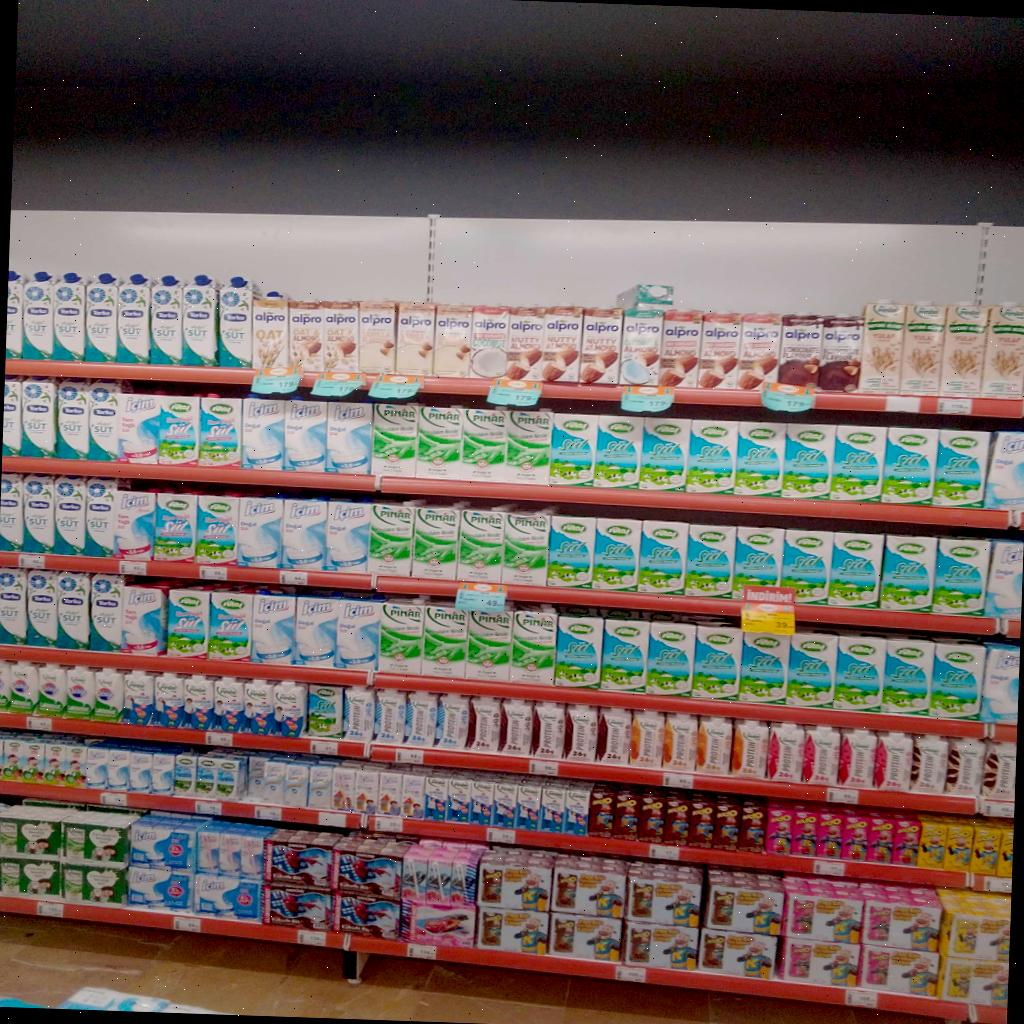price_tag: (741, 586, 795, 636), (487, 377, 542, 407), (761, 382, 815, 412), (456, 583, 507, 612), (621, 386, 675, 412), (252, 366, 302, 394), (313, 372, 364, 397), (369, 375, 422, 399), (937, 398, 973, 415), (885, 396, 921, 413), (846, 989, 878, 1008), (827, 788, 859, 805), (980, 801, 1014, 817), (394, 747, 424, 764), (814, 860, 845, 876), (615, 966, 646, 982), (374, 816, 403, 833), (486, 828, 516, 844), (663, 772, 693, 788), (529, 760, 559, 776), (297, 930, 326, 946), (318, 812, 347, 828), (984, 876, 1011, 893), (650, 845, 680, 860), (254, 806, 282, 822), (173, 917, 201, 933), (407, 944, 436, 959), (17, 554, 45, 569), (310, 740, 338, 755), (280, 570, 307, 585), (206, 732, 233, 747), (38, 901, 63, 917), (119, 561, 147, 575), (199, 566, 227, 580), (101, 792, 127, 807), (27, 717, 53, 731), (195, 801, 221, 814)
product: (701, 868, 784, 937), (860, 886, 941, 954), (331, 833, 413, 899), (624, 861, 702, 928), (402, 842, 480, 908), (939, 891, 1010, 963), (549, 853, 626, 919), (478, 849, 553, 913), (264, 828, 341, 890), (938, 304, 987, 397), (196, 820, 274, 878), (932, 430, 990, 507), (881, 428, 938, 505), (932, 538, 989, 615), (928, 642, 984, 720), (784, 890, 863, 945), (880, 535, 936, 612), (829, 425, 885, 501), (859, 301, 905, 393), (827, 532, 883, 607), (62, 811, 137, 867), (899, 303, 945, 394), (980, 304, 1024, 398), (832, 635, 885, 712), (859, 944, 938, 995), (882, 638, 933, 716), (781, 424, 834, 499), (698, 929, 777, 979), (129, 814, 197, 872), (686, 419, 738, 494), (780, 529, 832, 604), (623, 918, 698, 970), (781, 937, 859, 987), (637, 519, 688, 595), (786, 632, 837, 707), (0, 806, 75, 857), (738, 631, 791, 703), (455, 507, 505, 583), (646, 620, 696, 696), (638, 415, 688, 490), (735, 422, 785, 497), (691, 626, 742, 699), (937, 956, 1008, 1008), (685, 523, 734, 598), (731, 526, 782, 598), (553, 615, 604, 687), (398, 900, 476, 947), (504, 408, 552, 484), (594, 413, 642, 488), (600, 617, 648, 692), (546, 514, 595, 587), (548, 913, 621, 962), (459, 407, 507, 481), (548, 414, 598, 485), (736, 313, 782, 390), (420, 602, 467, 677), (818, 314, 863, 392), (476, 907, 549, 955), (510, 609, 556, 685), (415, 405, 462, 479), (619, 306, 663, 385), (411, 506, 459, 578), (592, 518, 640, 590), (294, 596, 342, 668), (501, 512, 548, 585), (332, 890, 402, 939), (242, 394, 287, 470), (372, 402, 418, 476), (697, 312, 741, 389), (193, 872, 262, 921), (237, 497, 284, 568), (465, 611, 512, 681), (368, 503, 413, 576), (219, 276, 255, 367), (579, 307, 621, 385), (659, 310, 702, 386), (181, 275, 217, 365), (326, 401, 371, 473), (377, 602, 422, 674), (284, 397, 327, 472), (121, 584, 167, 654), (980, 641, 1019, 723), (983, 431, 1024, 509), (776, 313, 820, 385), (252, 592, 296, 664), (984, 540, 1023, 621), (336, 598, 380, 669), (541, 306, 582, 382), (167, 587, 210, 659), (282, 499, 326, 569), (84, 272, 118, 362), (116, 273, 150, 363), (980, 645, 1019, 723), (208, 591, 252, 660), (52, 272, 86, 361), (264, 885, 331, 930), (326, 502, 369, 572), (118, 392, 160, 463), (199, 396, 241, 467), (127, 866, 192, 911), (504, 307, 544, 380), (154, 492, 196, 561), (114, 489, 155, 559), (195, 495, 237, 563), (433, 304, 472, 377), (22, 271, 54, 359), (62, 862, 126, 906), (358, 301, 396, 374), (21, 378, 56, 457), (318, 301, 358, 370), (158, 396, 198, 465), (252, 291, 288, 367), (469, 306, 507, 378), (88, 382, 123, 460), (151, 274, 181, 364), (396, 303, 434, 374), (21, 474, 55, 553), (55, 571, 89, 649), (83, 477, 116, 556), (90, 573, 123, 652), (57, 380, 89, 459), (54, 476, 85, 555), (289, 300, 323, 372), (0, 857, 60, 897), (838, 728, 876, 788), (945, 738, 985, 795), (27, 569, 56, 647), (802, 725, 840, 784), (874, 732, 912, 791), (731, 719, 768, 779), (767, 722, 804, 781), (910, 734, 947, 793), (628, 710, 665, 768), (696, 716, 732, 774), (597, 708, 634, 764), (663, 713, 698, 771), (0, 568, 26, 645), (982, 741, 1016, 799), (271, 681, 306, 737), (182, 676, 218, 730), (531, 701, 564, 759), (5, 268, 26, 358), (0, 473, 23, 552), (372, 689, 405, 744), (468, 697, 501, 752), (309, 684, 343, 737), (244, 680, 277, 734), (342, 688, 375, 742), (404, 692, 437, 746), (566, 705, 597, 761), (124, 671, 156, 725), (501, 699, 531, 755), (154, 672, 184, 727), (7, 661, 38, 714), (63, 666, 94, 719), (92, 669, 123, 722), (437, 694, 468, 747), (214, 677, 243, 732), (305, 764, 341, 808), (737, 798, 766, 852), (764, 800, 793, 854), (36, 664, 66, 716), (2, 378, 21, 456), (917, 819, 947, 868), (970, 825, 1000, 874), (814, 809, 843, 859), (418, 773, 448, 821), (891, 815, 919, 866), (588, 785, 615, 837), (790, 805, 817, 857), (865, 813, 893, 862), (664, 792, 689, 846), (945, 825, 974, 871), (614, 788, 640, 839), (639, 791, 665, 842), (256, 760, 285, 804), (564, 784, 589, 835), (332, 762, 358, 811), (539, 786, 566, 832), (841, 815, 868, 861), (516, 782, 541, 831), (124, 751, 153, 793), (216, 757, 245, 799), (19, 740, 47, 783), (469, 775, 493, 825), (378, 769, 402, 816), (492, 780, 516, 827), (714, 802, 738, 849), (41, 741, 67, 784), (283, 763, 309, 806), (401, 772, 425, 818), (247, 752, 272, 796), (446, 776, 469, 823), (150, 752, 175, 795), (354, 769, 377, 814), (62, 743, 86, 786), (172, 753, 196, 796), (85, 745, 108, 788), (107, 747, 130, 789), (0, 737, 22, 779), (195, 755, 217, 797), (690, 806, 713, 846), (996, 828, 1013, 877), (0, 659, 10, 711), (885, 454, 904, 476), (0, 733, 4, 777), (316, 628, 316, 629)
